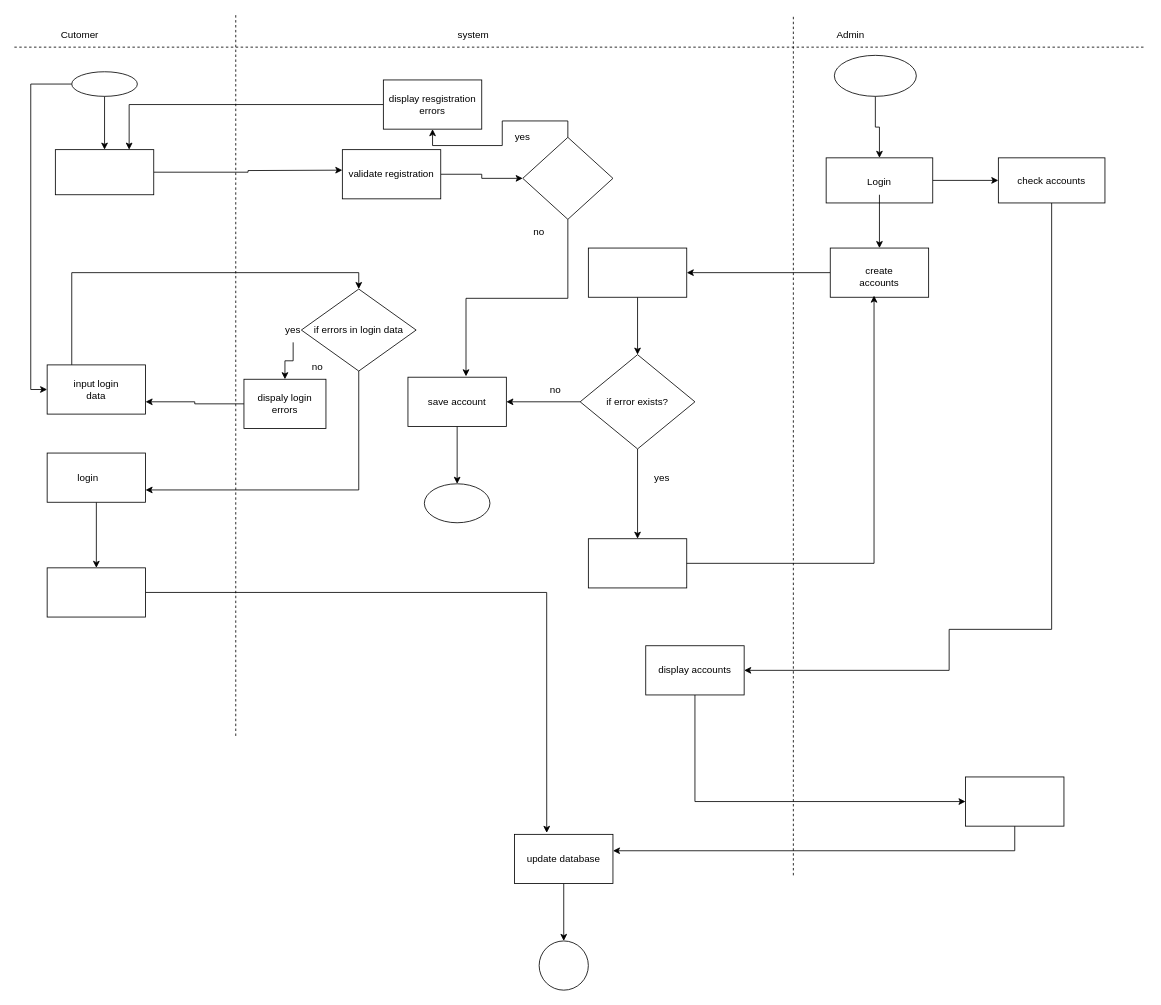
The diagram is 1161 pixels wide and 1005 high, and some of its shapes have lost their labels. The box of each missing label's shape, as (x1, y1, x2, y2) in pixels:
display errors: (588, 538, 687, 588)
if error in register?: (522, 137, 613, 219)
Regsitration: (55, 149, 154, 195)
update/delete account: (46, 567, 146, 617)
update/delete accounts: (965, 776, 1064, 826)
validate account: (588, 247, 687, 297)
